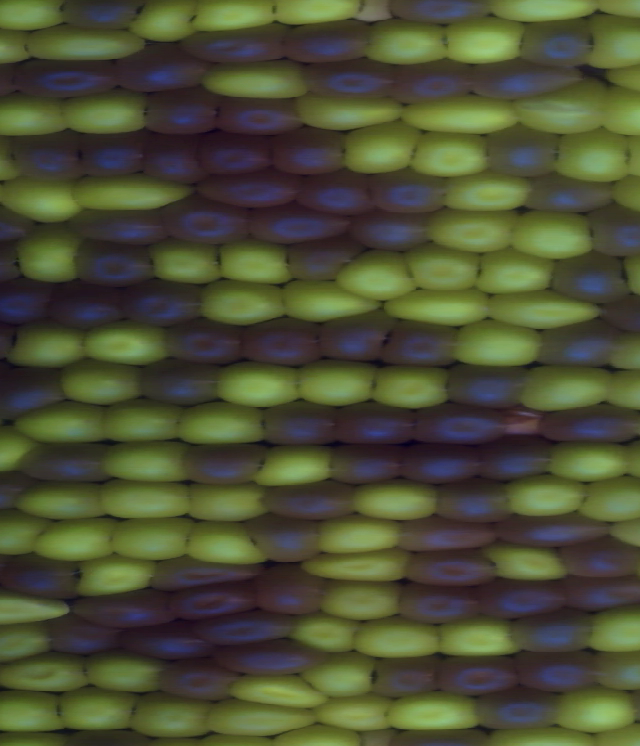fluorescent: (63, 166, 195, 219), (506, 76, 614, 138), (397, 92, 526, 143), (174, 394, 283, 452), (295, 543, 421, 593), (274, 274, 388, 329), (10, 392, 116, 451), (358, 11, 457, 74), (510, 360, 621, 416), (446, 314, 551, 373), (44, 678, 148, 737), (379, 688, 494, 741), (52, 353, 153, 413), (373, 281, 493, 331), (18, 21, 151, 66), (28, 510, 131, 568), (179, 515, 278, 575), (194, 57, 317, 105), (544, 124, 636, 188), (334, 115, 426, 179), (196, 272, 292, 333), (335, 243, 425, 308), (479, 290, 609, 335), (222, 667, 338, 717), (505, 206, 603, 265), (347, 471, 445, 530), (93, 474, 202, 527), (92, 392, 193, 449), (313, 572, 414, 629), (288, 353, 385, 412), (290, 89, 411, 136), (0, 316, 98, 374), (344, 612, 449, 665), (405, 128, 503, 184), (426, 206, 524, 262), (467, 244, 563, 301), (498, 465, 592, 523), (209, 355, 304, 412), (52, 87, 152, 141), (540, 433, 636, 489), (0, 166, 88, 227), (6, 223, 91, 286), (123, 690, 222, 744), (399, 237, 485, 299), (96, 434, 194, 488), (367, 360, 461, 416), (548, 683, 640, 740), (437, 13, 534, 67), (10, 478, 117, 526), (109, 507, 196, 566), (79, 314, 169, 371), (424, 613, 526, 663), (67, 551, 163, 604), (434, 169, 537, 218), (201, 695, 318, 738), (304, 687, 403, 737), (311, 510, 413, 558), (214, 234, 298, 292), (146, 232, 226, 292), (295, 648, 383, 702), (255, 437, 339, 492), (0, 646, 98, 693), (77, 648, 173, 695), (284, 608, 368, 661), (180, 479, 272, 527), (480, 541, 574, 587), (0, 91, 75, 147), (583, 8, 640, 81), (0, 680, 71, 738), (0, 581, 76, 635), (577, 599, 640, 663), (571, 473, 640, 531), (121, 1, 206, 45), (0, 503, 65, 560), (185, 1, 280, 39), (481, 1, 609, 27), (0, 615, 60, 670), (266, 1, 363, 30), (0, 1, 71, 36), (600, 82, 640, 143), (590, 646, 640, 694), (599, 362, 640, 417), (0, 423, 41, 478), (603, 327, 640, 377), (605, 506, 640, 555), (0, 25, 35, 71), (609, 173, 640, 222), (591, 721, 640, 746)
nonfluorescent: (466, 55, 590, 107), (16, 433, 122, 493), (210, 634, 340, 682), (405, 399, 516, 455), (61, 201, 180, 253), (9, 52, 127, 104), (234, 312, 328, 377), (141, 551, 267, 598), (486, 508, 620, 552), (40, 275, 132, 339), (256, 474, 364, 528), (482, 119, 570, 185), (174, 21, 292, 70), (311, 305, 407, 365), (135, 351, 231, 411), (112, 41, 211, 99), (243, 200, 360, 249), (532, 316, 627, 376), (542, 247, 635, 308), (371, 315, 467, 374), (172, 437, 274, 492), (390, 577, 490, 633), (503, 606, 603, 662), (69, 238, 166, 295), (159, 312, 251, 372), (115, 276, 215, 331), (194, 164, 306, 213), (535, 400, 640, 452), (115, 616, 222, 667), (245, 560, 333, 622), (509, 643, 608, 698), (440, 359, 537, 415), (158, 193, 254, 249), (68, 586, 182, 633), (473, 573, 576, 625), (194, 604, 303, 653), (252, 398, 347, 454), (0, 547, 91, 605), (428, 649, 531, 700), (278, 15, 377, 68), (386, 58, 484, 111), (398, 436, 488, 493), (393, 511, 504, 557), (468, 679, 562, 733), (134, 128, 213, 192), (470, 431, 559, 487), (242, 509, 327, 567), (321, 440, 414, 493), (331, 396, 417, 453), (364, 168, 456, 221), (396, 546, 502, 592), (161, 576, 260, 625), (346, 203, 435, 257), (208, 93, 308, 141), (516, 13, 597, 72), (278, 233, 359, 292), (140, 84, 228, 138), (519, 169, 618, 217), (363, 649, 446, 706), (7, 129, 93, 184), (551, 533, 640, 586), (428, 479, 520, 530), (271, 121, 351, 178), (0, 360, 68, 427), (154, 656, 245, 706), (192, 127, 275, 181), (301, 60, 402, 104), (43, 611, 123, 665), (296, 167, 375, 221), (73, 129, 149, 185), (554, 569, 640, 615), (380, 1, 497, 31), (586, 200, 640, 263), (0, 275, 56, 332), (53, 1, 142, 33), (0, 204, 46, 253), (0, 466, 41, 519), (600, 291, 640, 344)
